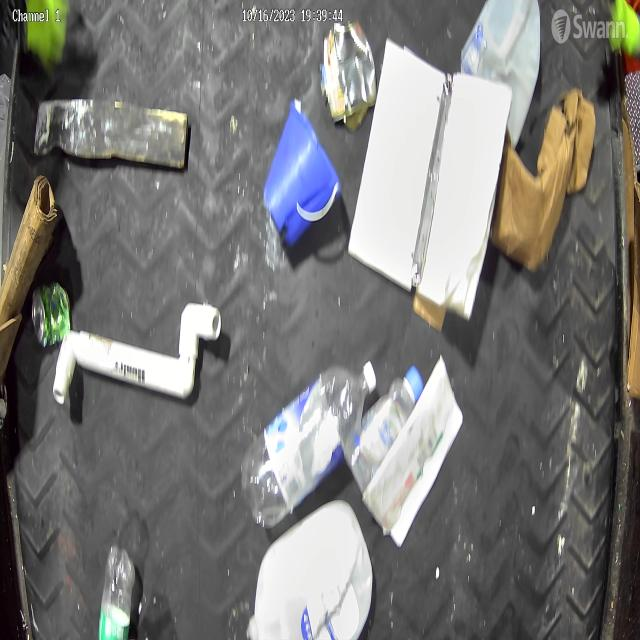can: (325, 16, 378, 125), (30, 279, 71, 348)
milk_jug: (245, 497, 374, 640), (459, 0, 542, 150)
plastic_bottle: (240, 358, 377, 527), (344, 364, 424, 496), (98, 542, 137, 640)
